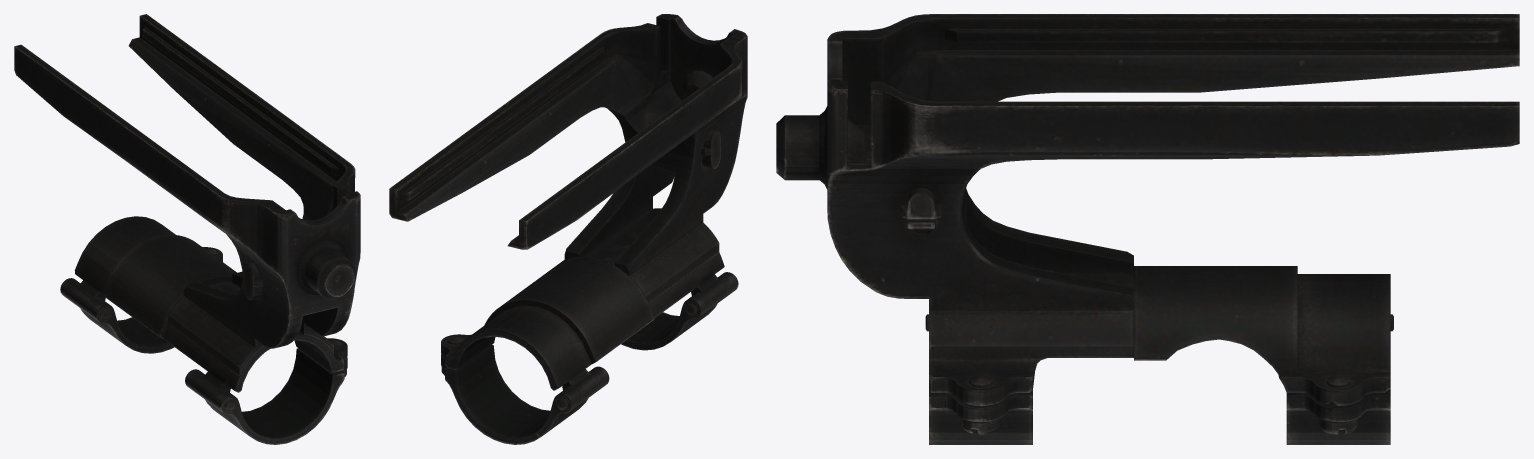
3 views of the same model, side by side, from view 1: azimuth 30°, elevation 25°; view 2: azimuth 150°, elevation 25°; view 3: azimuth 270°, elevation 25° (orthographic). The views are drawn at different scales.
Visible parts, largest first — view 1: TW_641dc35e19604f20c800be18_PZ_Import; view 2: TW_641dc35e19604f20c800be18_PZ_Import; view 3: TW_641dc35e19604f20c800be18_PZ_Import.
Part boxes in pixels (x1=…): TW_641dc35e19604f20c800be18_PZ_Import: x1=14, y1=14, x2=360, y2=444; TW_641dc35e19604f20c800be18_PZ_Import: x1=389, y1=14, x2=747, y2=444; TW_641dc35e19604f20c800be18_PZ_Import: x1=776, y1=14, x2=1519, y2=444.
Bounding box in the file's own units: 0.0237 × 0.0745 × 0.0416.
Materials: 1 (1 with a texture image).
